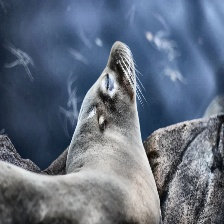seal: (1, 42, 160, 224)
